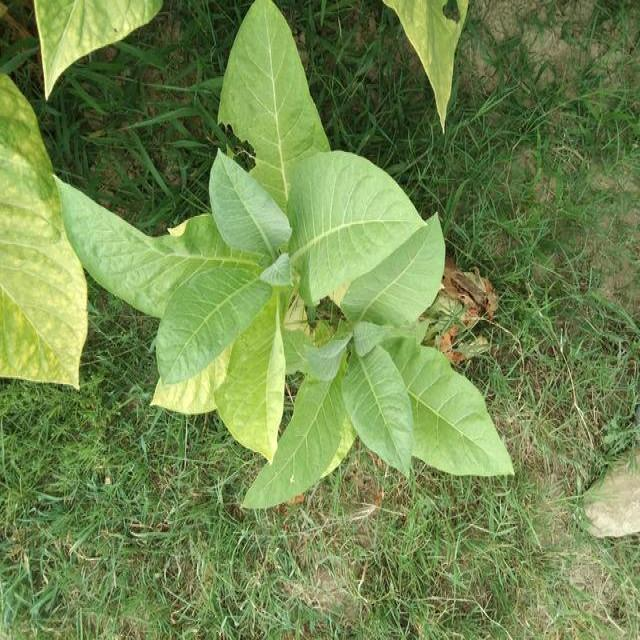crop: (155, 1, 519, 520)
